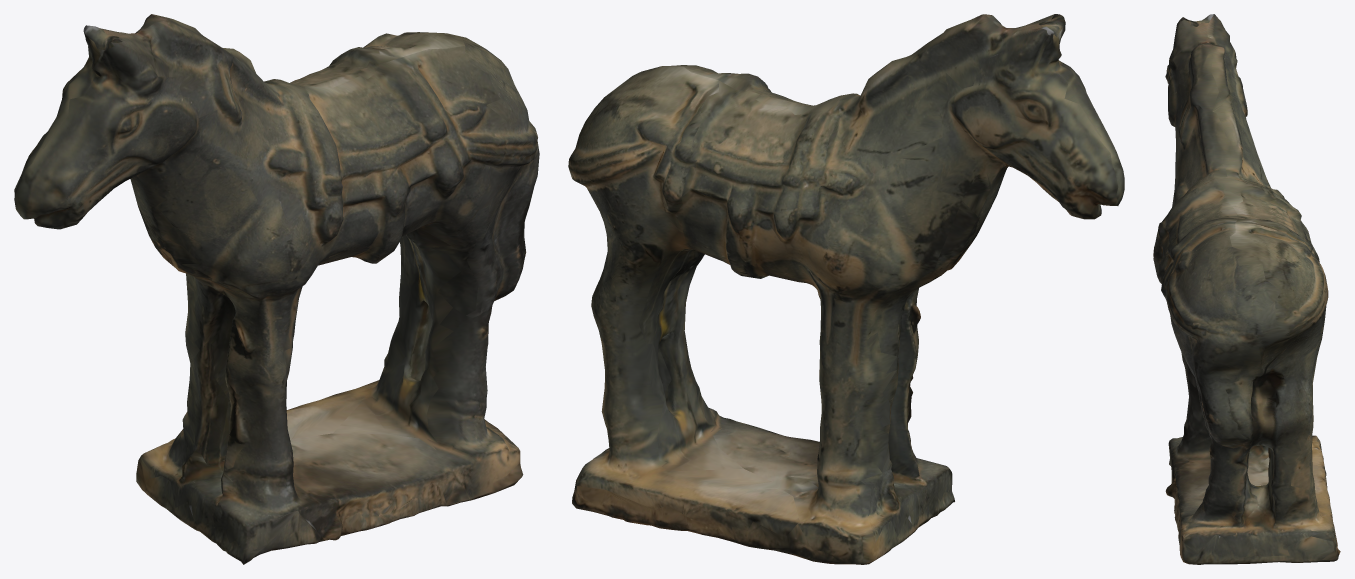
The model's file is mdl_namo_krub_horse.gltf.
3 views of the same model, side by side, from view 1: azimuth 30°, elevation 25°; view 2: azimuth 150°, elevation 25°; view 3: azimuth 270°, elevation 25° (orthographic). The views are drawn at different scales.
Parts seen in each view (by area): view 1: Object_2; view 2: Object_2; view 3: Object_2.
Boxes of the visible parts, x1,y1,x2,y2 form: Object_2: (14, 14, 539, 564); Object_2: (568, 14, 1124, 564); Object_2: (1153, 14, 1340, 564).
Size of the model in its own units: 28.04 by 28.02 by 11.69.
Materials: 2 (2 with a texture image).
